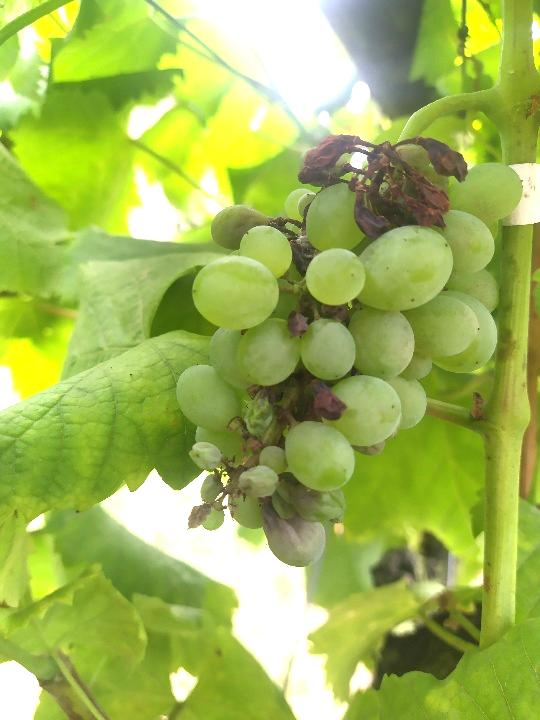grape: (171, 129, 525, 570)
